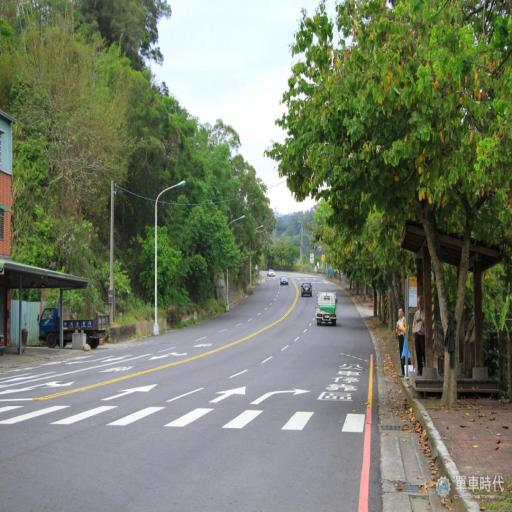car: (39, 300, 109, 356), (312, 286, 341, 334), (296, 275, 317, 303)
redline: (356, 403, 374, 512)
yellowline: (369, 353, 372, 415)
